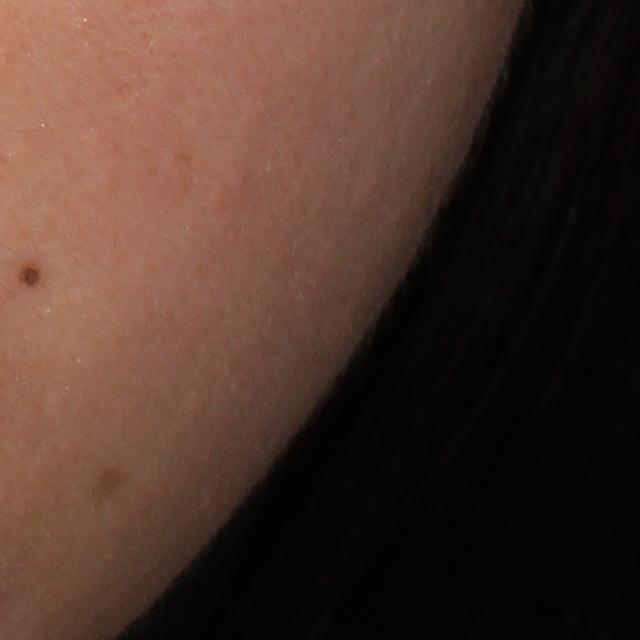nevus: (21, 263, 48, 294)
